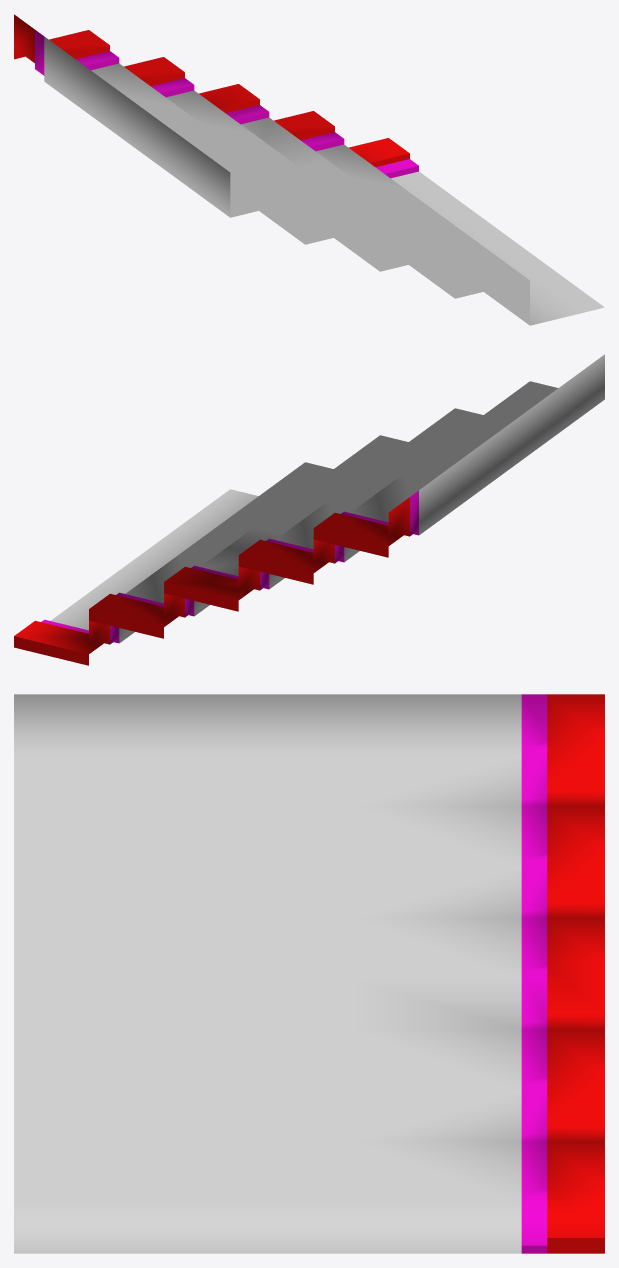
The model's file is Floor-StairsSide.fbx.
3 views of the same model, one above another, from view 1: azimuth 30°, elevation 25°; view 2: azimuth 150°, elevation 25°; view 3: azimuth 270°, elevation 25° (orthographic). The views are drawn at different scales.
Parts seen in each view (by area): view 1: StairsSide; view 2: StairsSide; view 3: StairsSide.
Part boxes in pixels (<box>): StairsSide: <box>14,14,604,325</box>; StairsSide: <box>14,354,604,665</box>; StairsSide: <box>14,694,604,1253</box>.
Bounding box in the file's own units: 78.74 × 45.47 × 78.74.
